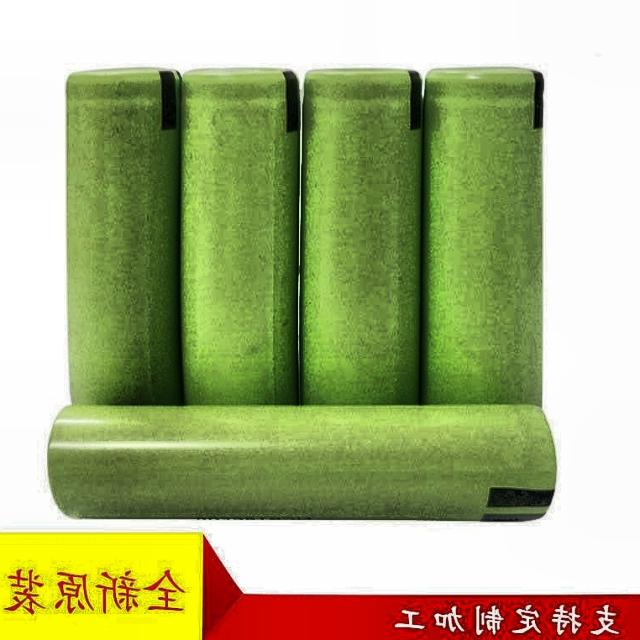Non-Valuable Waste - Batteries: (48, 403, 557, 520), (422, 67, 544, 406), (299, 69, 422, 405), (180, 70, 299, 405), (67, 70, 183, 405)
